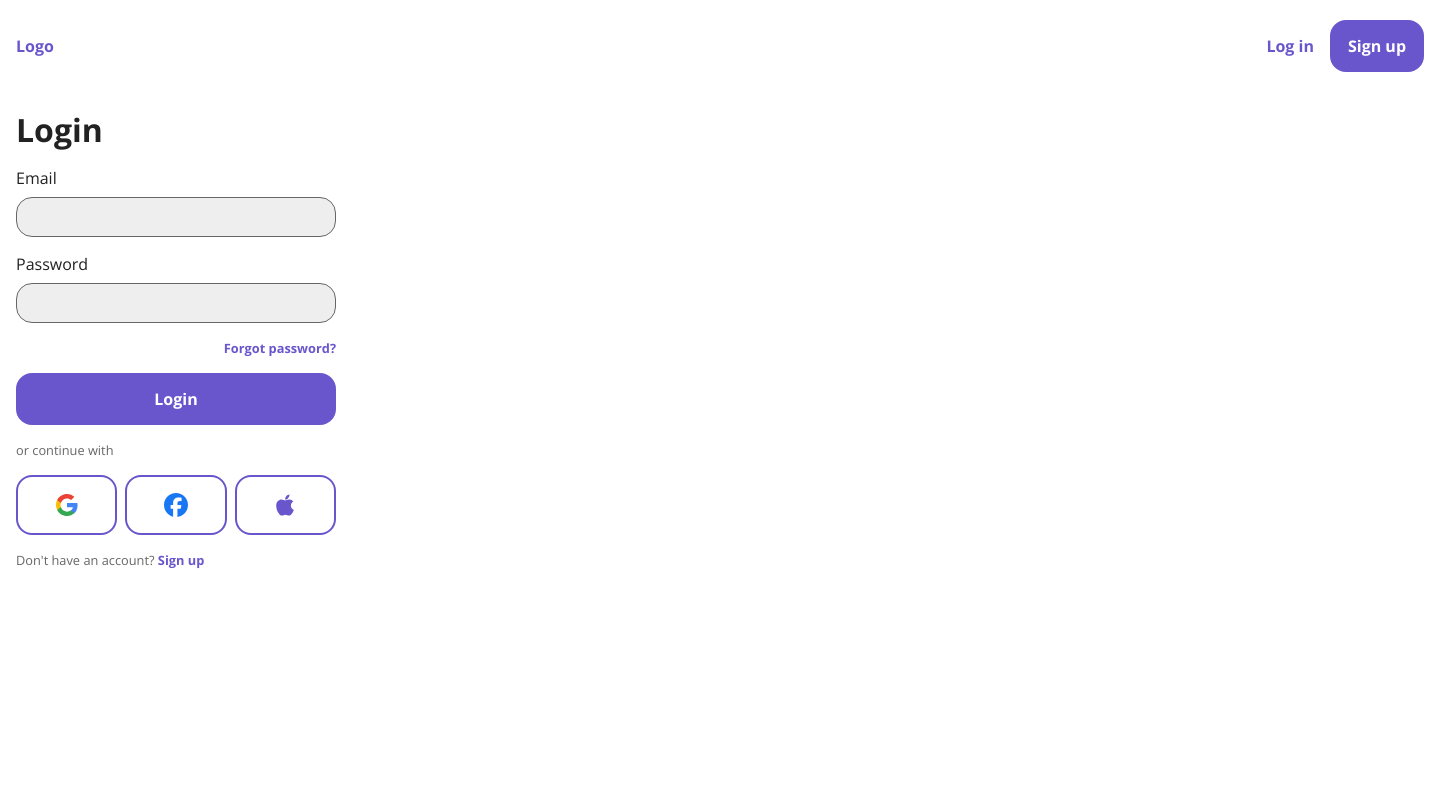
Test case: App routing › returns to the full original location after login
Type "ada@example.com" into the field labelled "Email" at coordinates (176, 217), box [16,197,336,237]
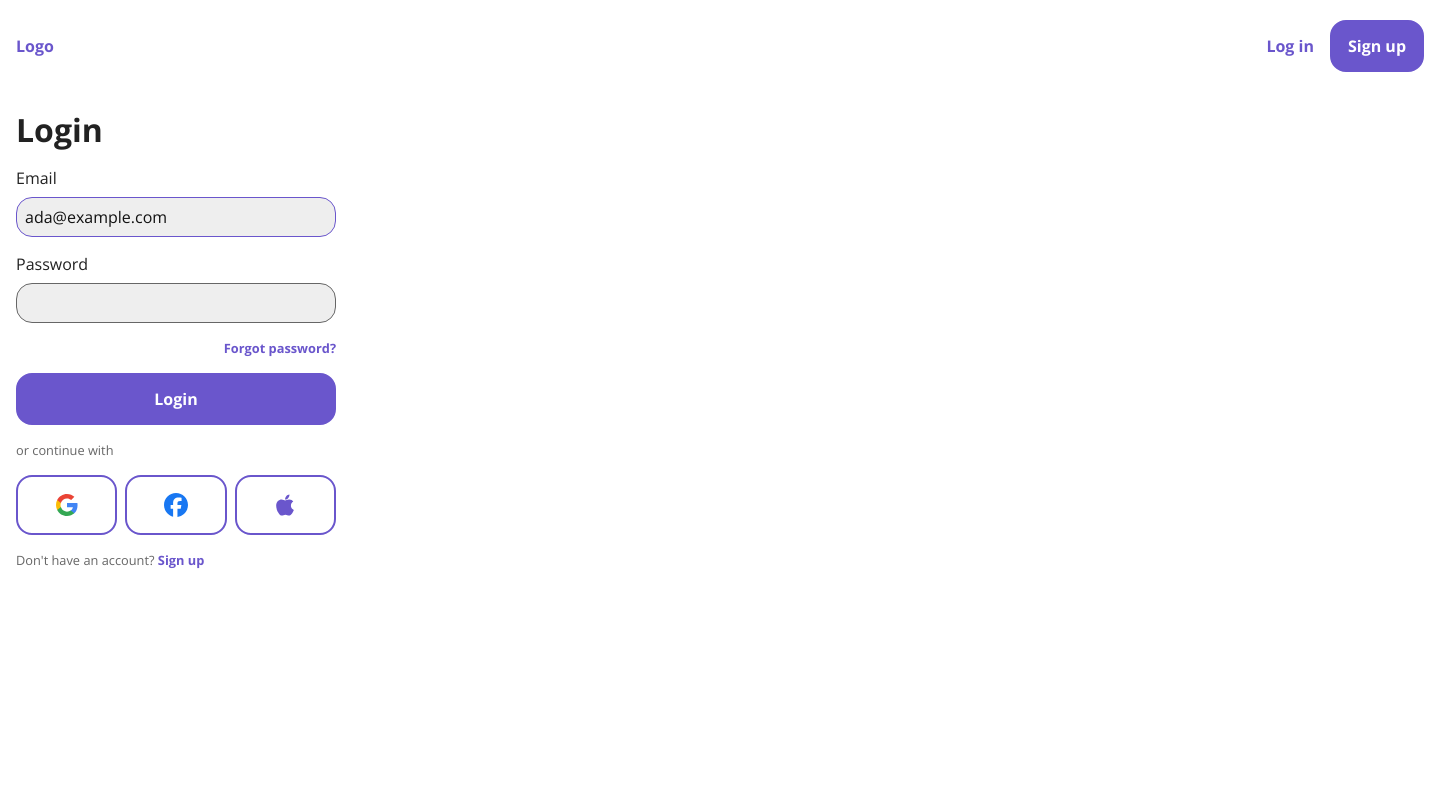
Type "secret" into the password field labelled "Password" at coordinates (176, 303), box [16,283,336,323]
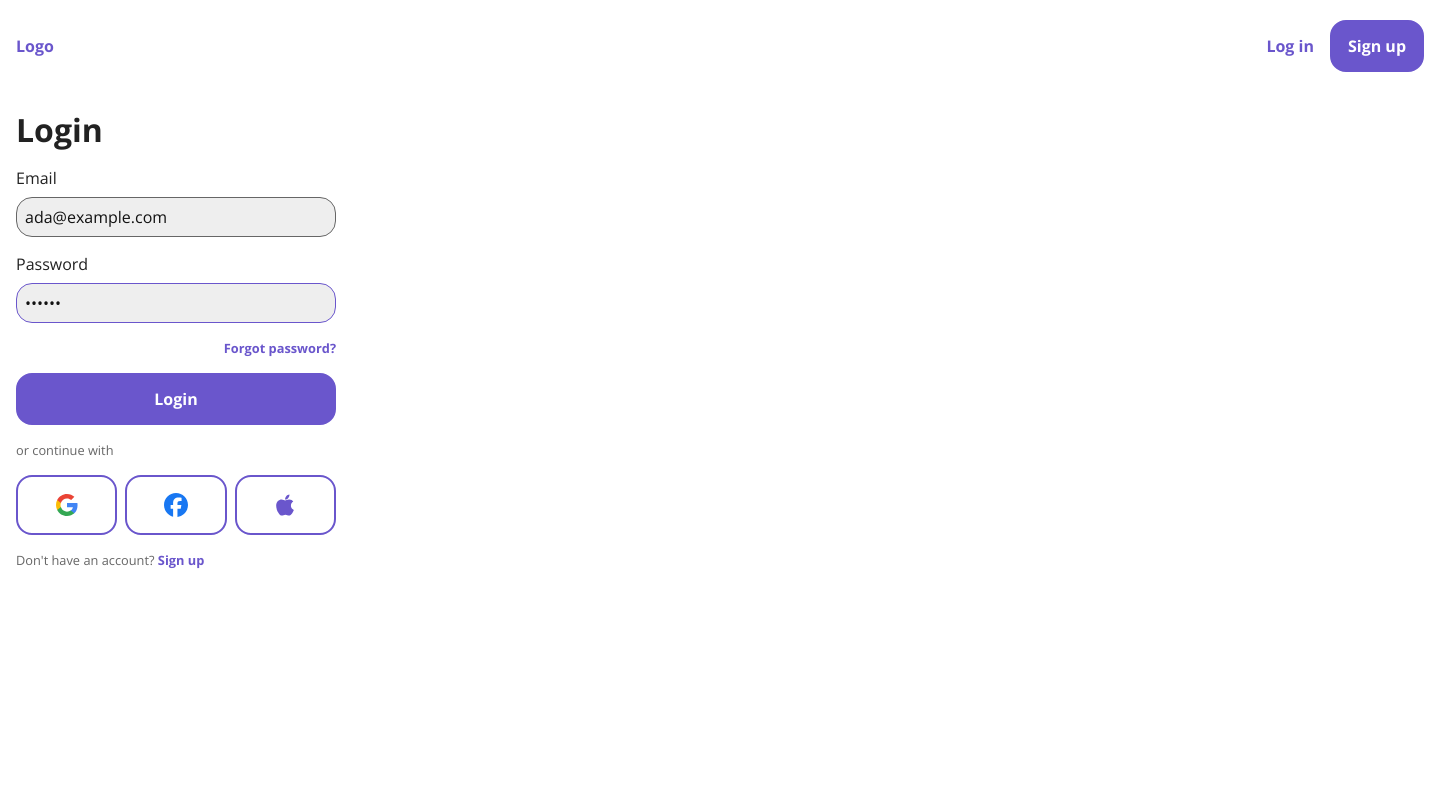
Click the button "Login" at coordinates (176, 399), box [16,373,336,425]
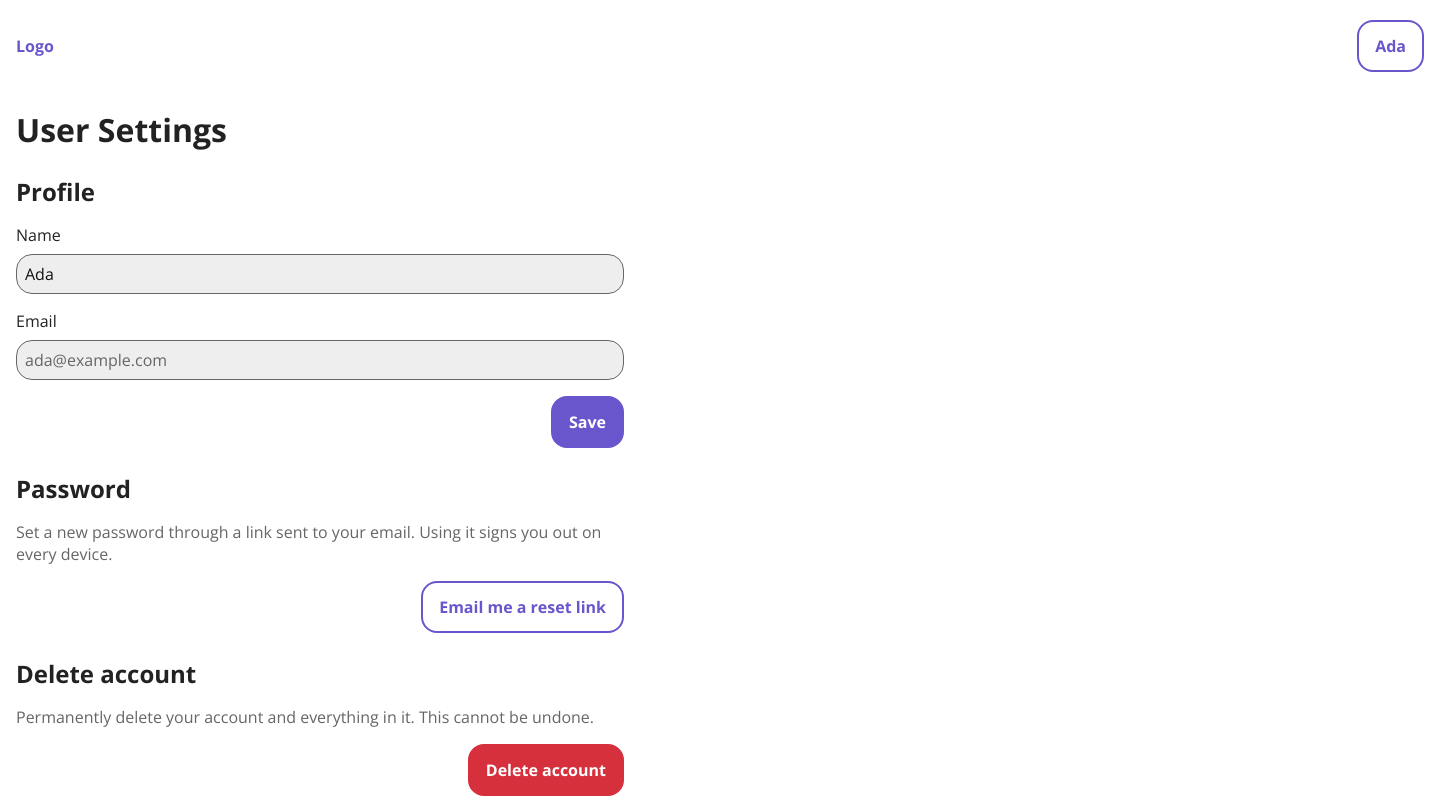
Expected: the heading "User Settings" is shown, [16,108,227,151]
